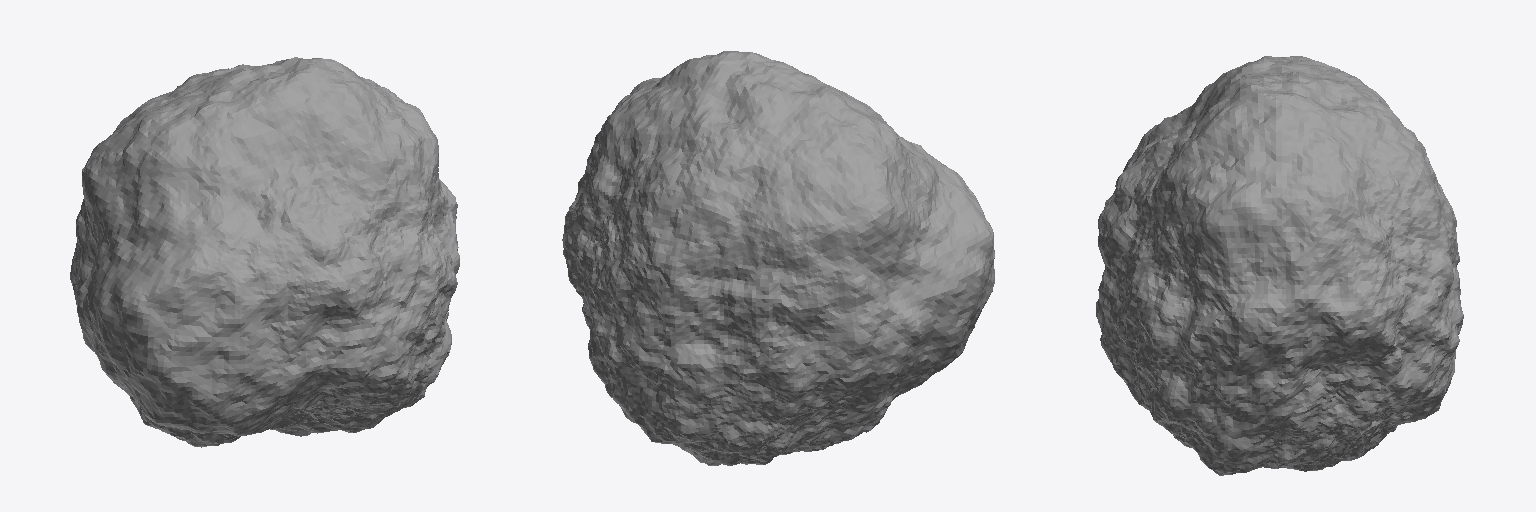
File: asteroid2.obj
The picture shows the model from 3 angles: view 1: azimuth 30°, elevation 25°; view 2: azimuth 150°, elevation 25°; view 3: azimuth 270°, elevation 25°; orthographic projection.
Parts seen in each view (by area): view 1: Cube; view 2: Cube; view 3: Cube.
Boxes of the visible parts, x1=… form: Cube: x1=70, y1=57, x2=459, y2=447; Cube: x1=562, y1=51, x2=994, y2=465; Cube: x1=1096, y1=56, x2=1463, y2=475.
Size of the model in its own units: 2.9 by 2.79 by 2.5.